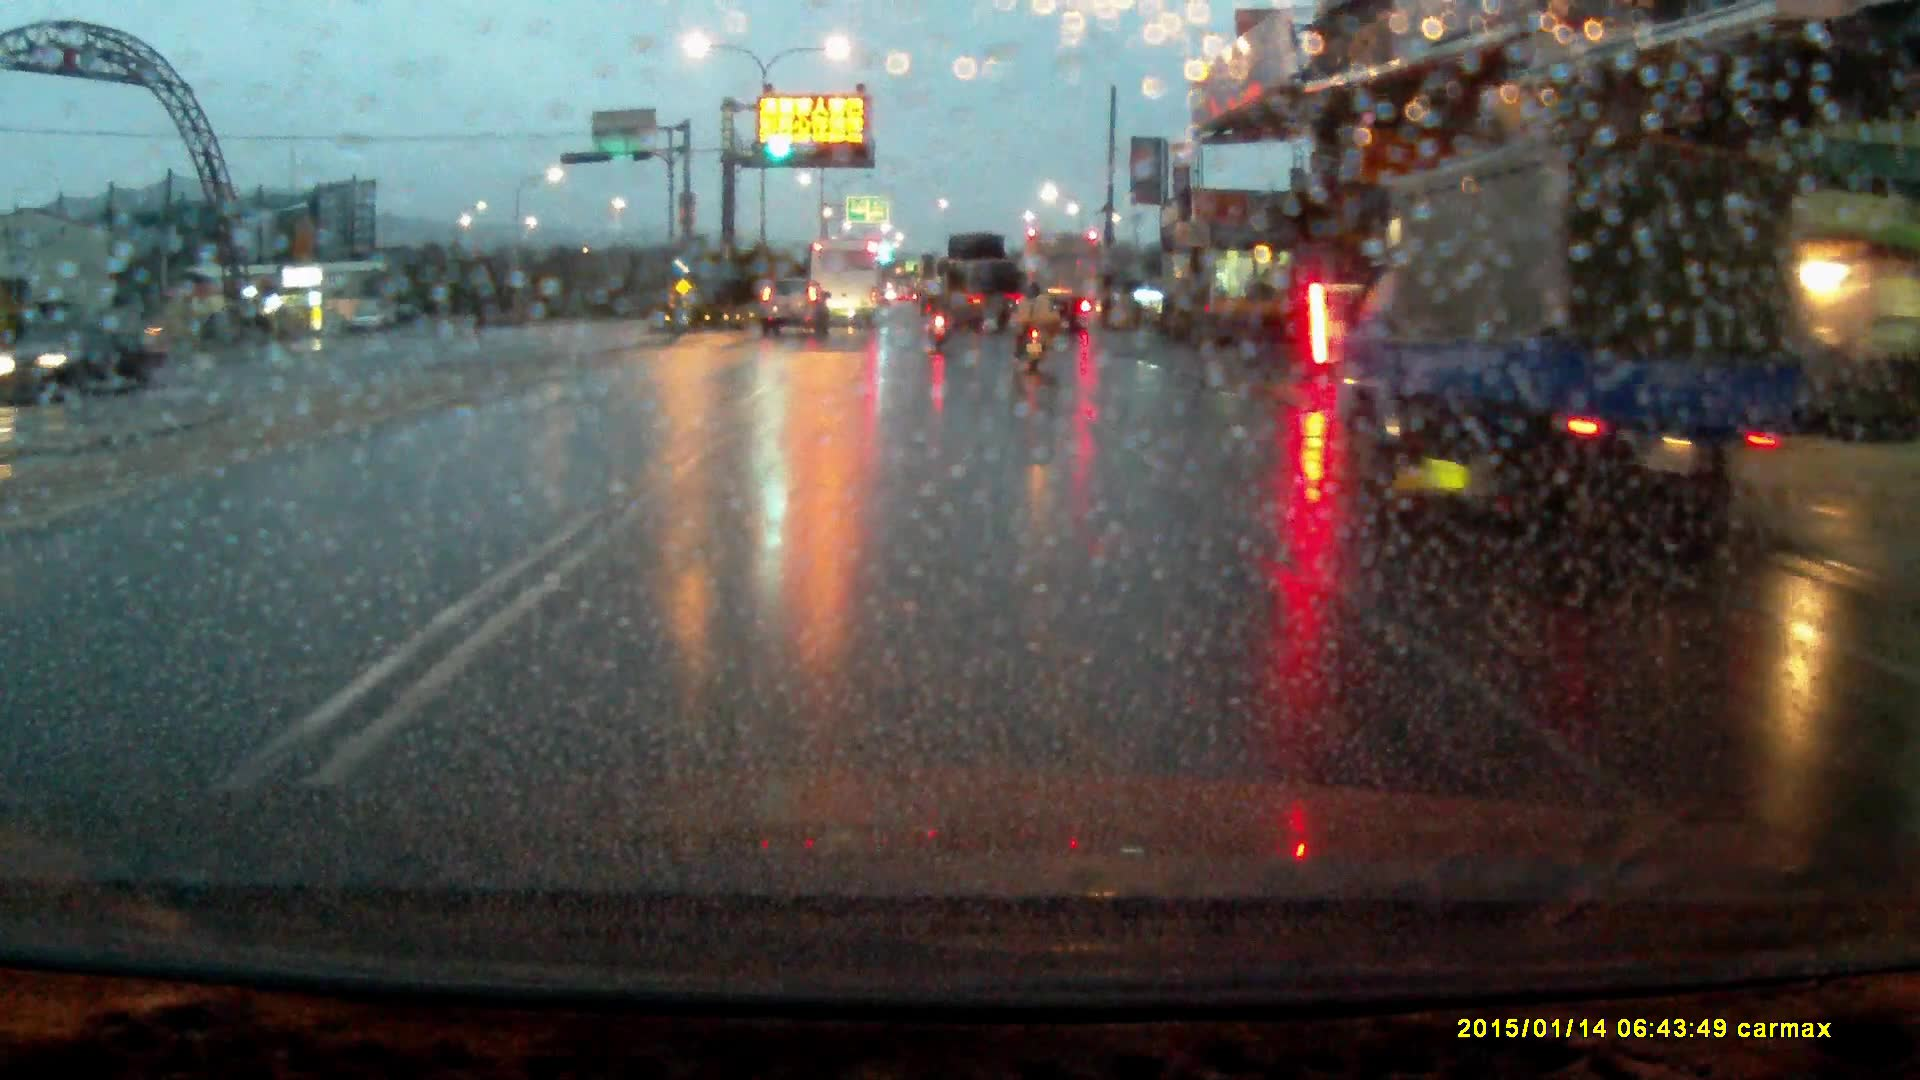rider: (1012, 273, 1050, 370), (927, 279, 952, 349)
vehicle: (1328, 130, 1791, 532), (14, 324, 153, 403), (937, 238, 1024, 342), (1024, 233, 1103, 330), (809, 243, 883, 330), (761, 281, 828, 340)
